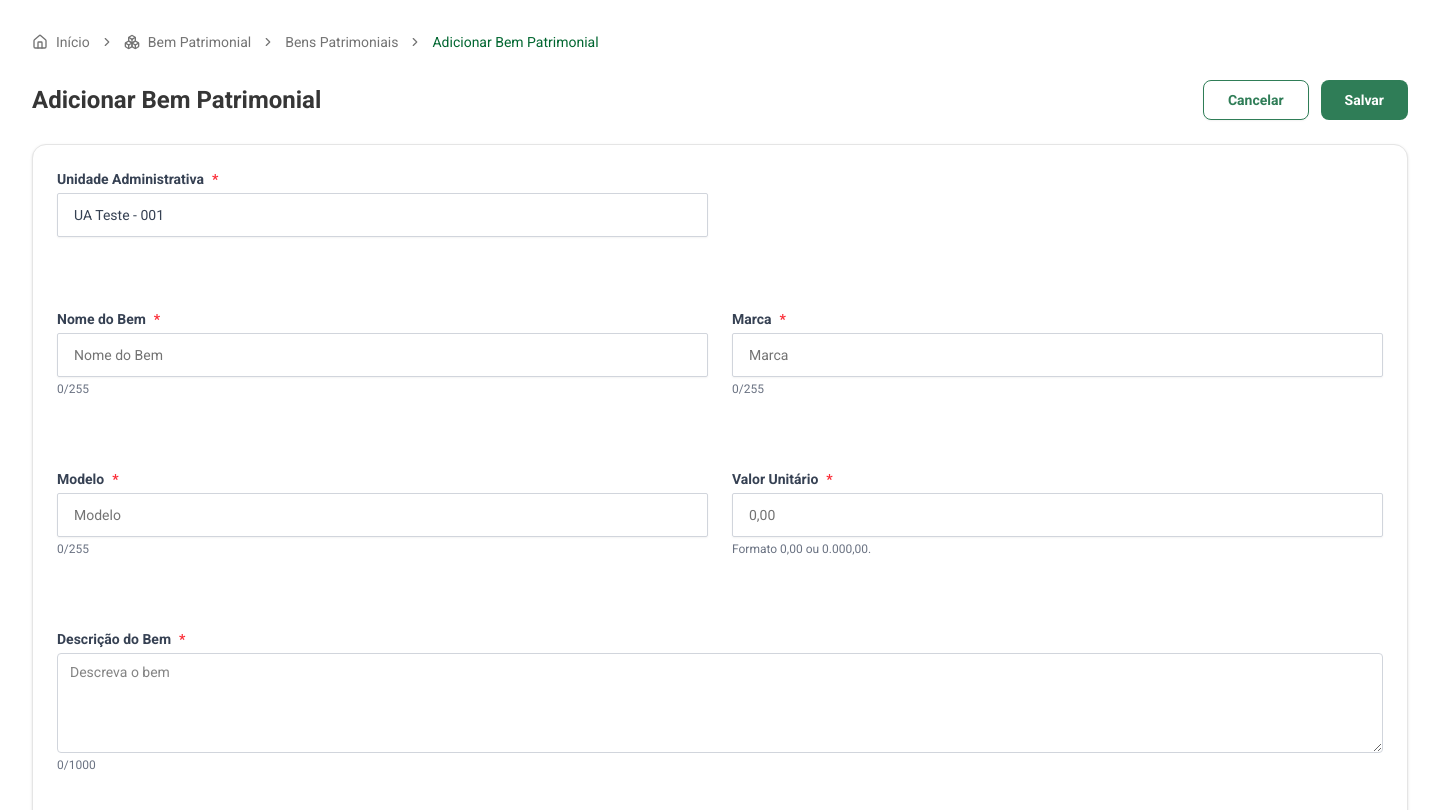
Test case: BemCreatePage › deve exibir todos os campos pendentes numa unica submissao
This screenshot has width=1440, height=810.
Click the button "Salvar" at (1364, 100), box [1321,80,1408,120]
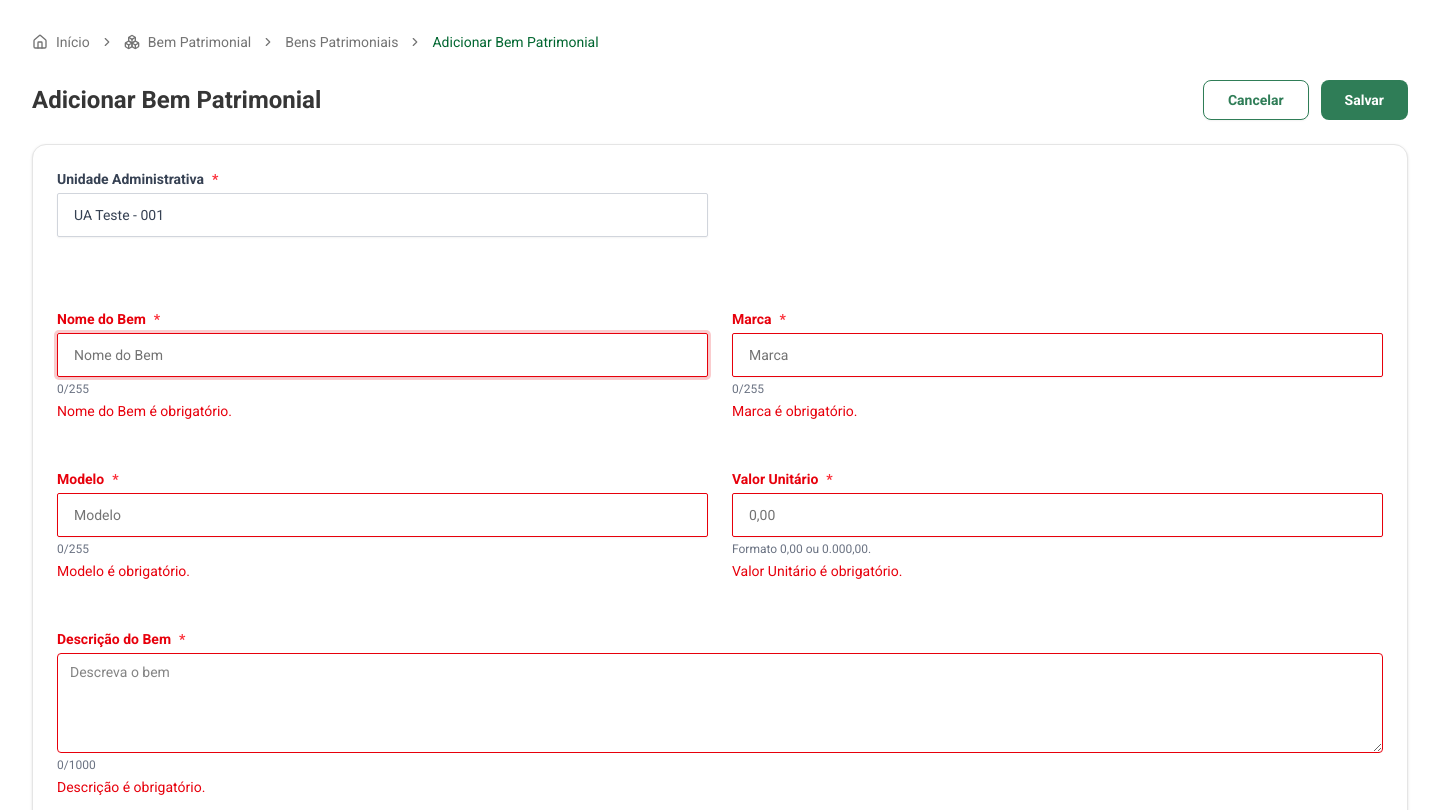
Check: the text "Nome do Bem é obrigatório." is shown, box [57,403,232,419]
Check: the text "Marca é obrigatório." is shown, box [732,403,858,419]
Check: the text "Modelo é obrigatório." is shown, box [57,563,190,579]
